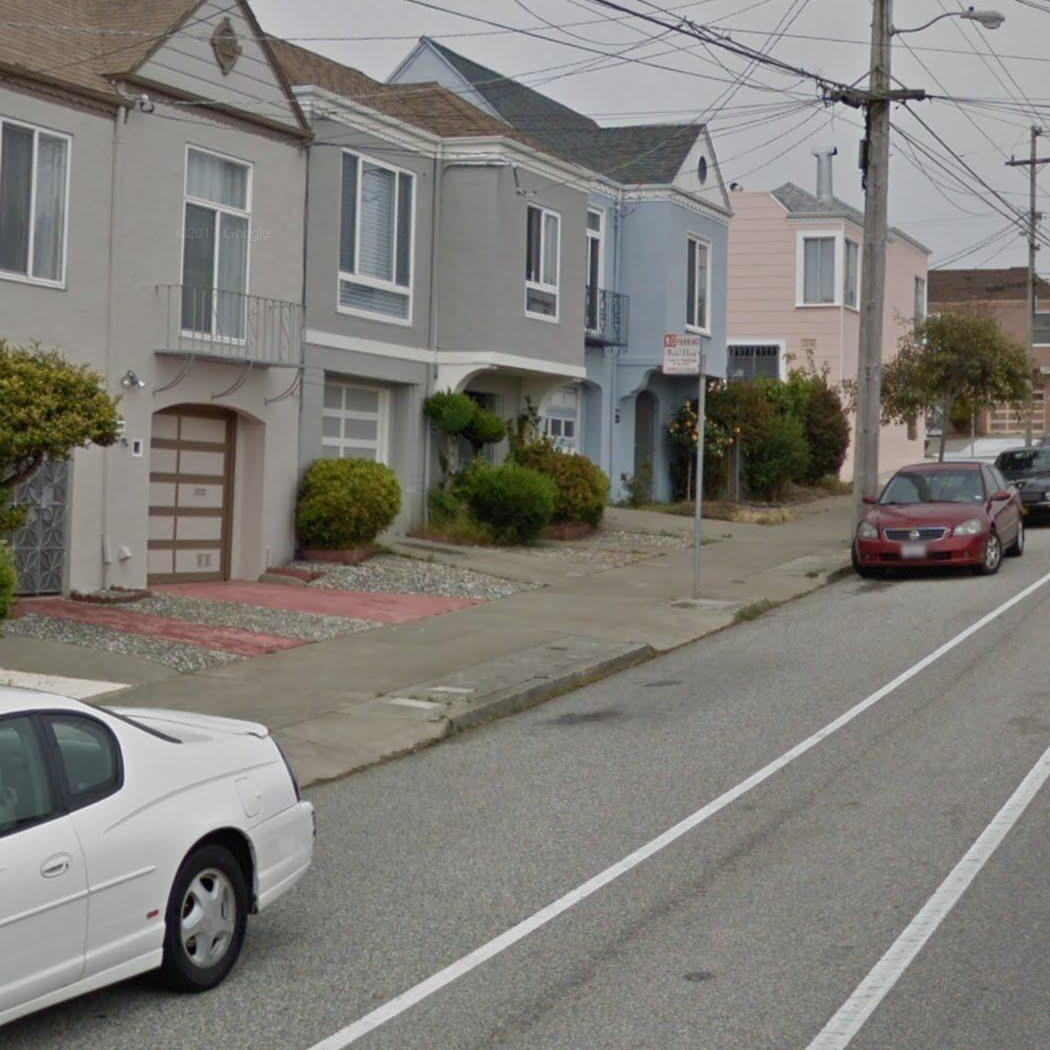No Parking: (663, 333, 702, 375)
